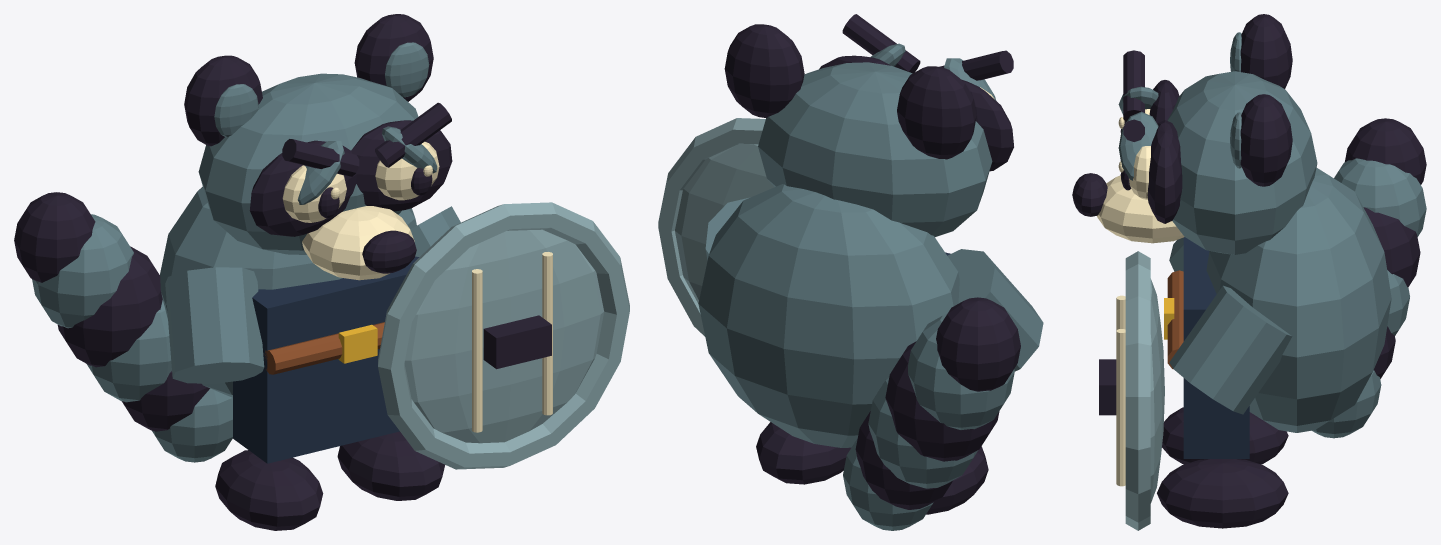
The model's file is raccoon.glb.
3 renders of one model, left to right at view 1: azimuth 30°, elevation 25°; view 2: azimuth 150°, elevation 25°; view 3: azimuth 270°, elevation 25°, orthographic. The views are drawn at different scales.
Visible parts, largest first — view 1: Dented bin lid, Work apron, Huge bin lid rim, Bandit head, Stocky arm, Hunched shoulders, Boot paw, Tail segment.022, Tail segment.021, Tail segment.023, Boot paw.001, Pointed muzzle (+22 smaller); view 2: Hunched shoulders, Bandit head, Dented bin lid, Tail segment.023, Round ear, Round ear.001, Huge bin lid rim, Tail segment.022, Tail segment.021, Stocky arm, Tail segment.020, Boot paw.001 (+9 smaller); view 3: Hunched shoulders, Bandit head, Stocky arm.001, Boot paw.001, Huge bin lid rim, Work apron, Tail segment.022, Round ear.001, Tail segment.023, Pointed muzzle, Round ear, Black eye mask.001 (+16 smaller).
Part boxes in pixels (x1,y1,x2,y2): Dented bin lid: [404, 229, 604, 443]; Work apron: [233, 256, 419, 463]; Huge bin lid rim: [378, 202, 629, 469]; Bandit head: [198, 73, 418, 254]; Stocky arm: [165, 267, 264, 383]; Hunched shoulders: [160, 186, 416, 397]; Boot paw: [215, 450, 323, 530]; Tail segment.022: [32, 214, 133, 328]; Tail segment.021: [57, 246, 162, 367]; Tail segment.023: [14, 192, 95, 282]; Boot paw.001: [337, 431, 444, 500]; Pointed muzzle: [302, 206, 414, 280]; Hunched shoulders: [698, 184, 959, 447]; Bandit head: [758, 62, 992, 236]; Dented bin lid: [675, 144, 774, 303]; Tail segment.023: [936, 297, 1020, 391]; Round ear: [897, 66, 976, 159]; Round ear.001: [724, 24, 804, 117]; Huge bin lid rim: [658, 118, 765, 336]; Tail segment.022: [908, 314, 1014, 429]; Tail segment.021: [885, 341, 999, 461]; Stocky arm: [947, 249, 1043, 371]; Tail segment.020: [868, 372, 978, 488]; Boot paw.001: [756, 422, 850, 484]; Hunched shoulders: [1206, 168, 1391, 432]; Bandit head: [1167, 71, 1317, 254]; Stocky arm.001: [1169, 285, 1292, 414]; Boot paw.001: [1157, 459, 1288, 528]; Huge bin lid rim: [1125, 251, 1150, 530]; Work apron: [1183, 237, 1249, 458]; Tail segment.022: [1334, 158, 1426, 236]; Round ear.001: [1240, 94, 1292, 186]; Tail segment.023: [1345, 118, 1426, 184]; Pointed muzzle: [1097, 175, 1184, 243]; Round ear: [1240, 14, 1292, 88]; Black eye mask.001: [1147, 120, 1182, 223].
Bounding box in the file's own units: 2.6 × 2.34 × 1.72.
